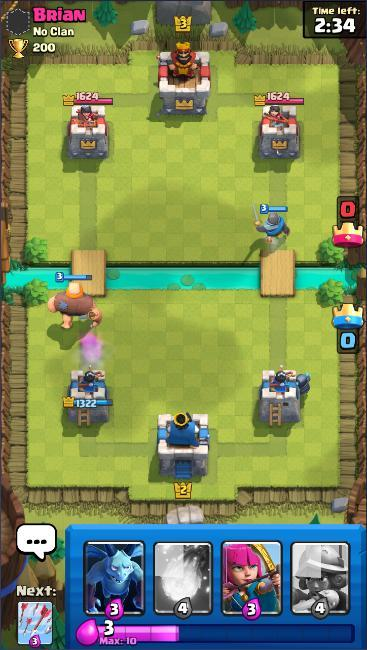ally_giant: (46, 271, 103, 330)
ally_knight: (250, 202, 292, 244)
ally_mini_pekka: (291, 369, 315, 397)
